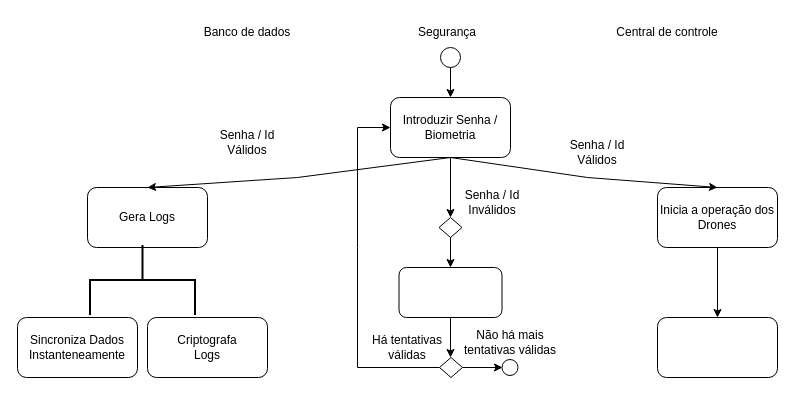
Image size: 795x395. Some labels were removed from this diagram. Here are the shapes that lost their labels. From the top down, the centre of each, then its label:
the point at 450,292: Reintroduzir Dados
the point at 717,347: Carrega a Navegação Do Drone
